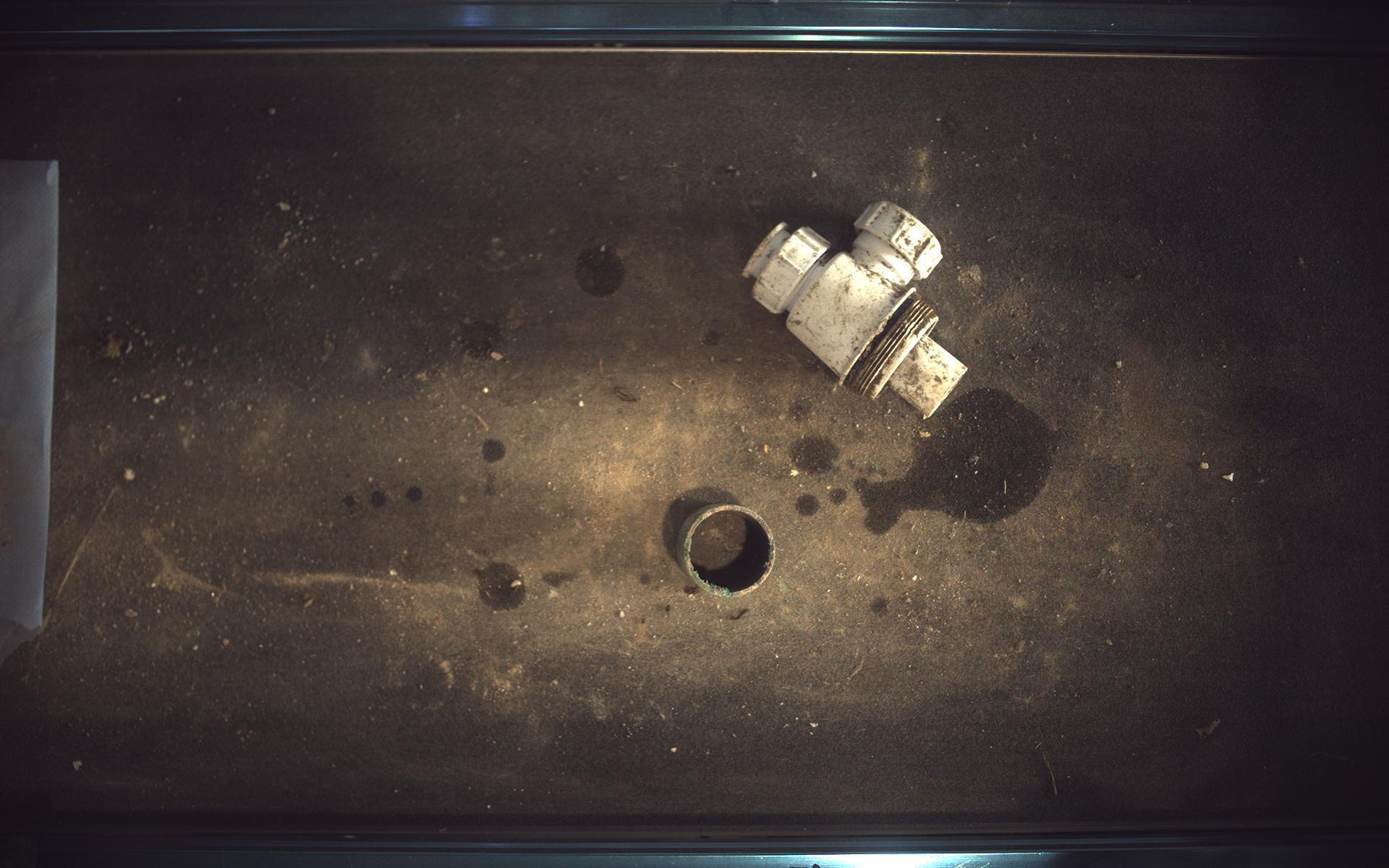pipes: (677, 503, 776, 598)
plastic: (744, 200, 969, 419)
